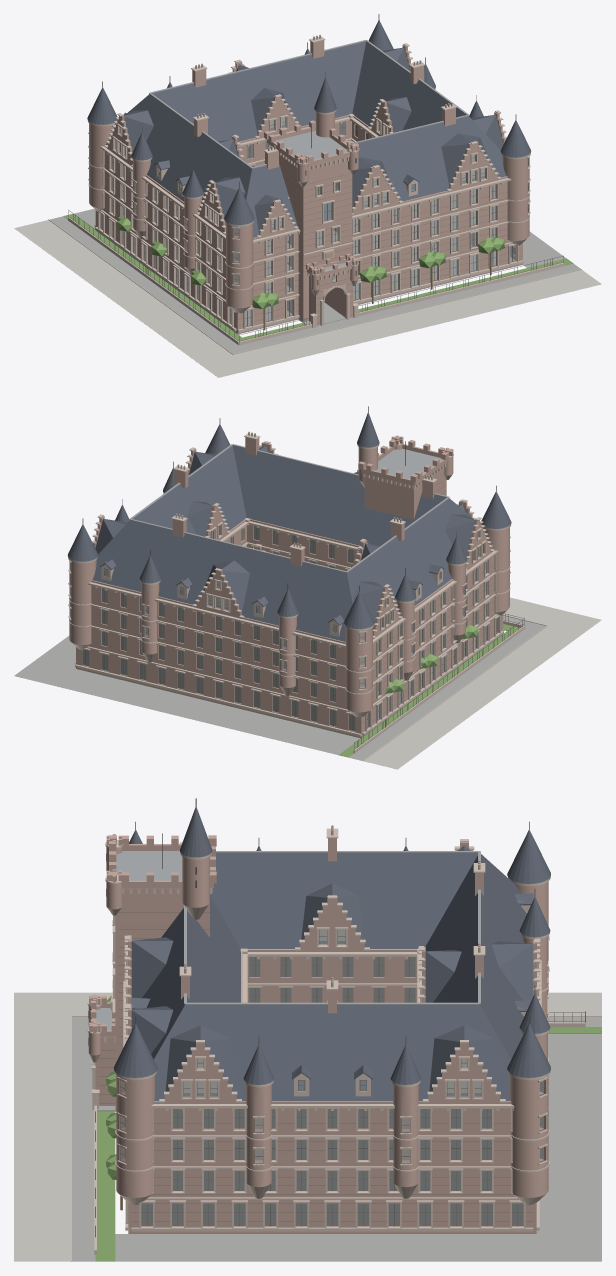
File: clay-baronial-railway-hotel-clay-v006.glb
The picture shows the model from 3 angles, top to bottom: view 1: azimuth 30°, elevation 25°; view 2: azimuth 150°, elevation 25°; view 3: azimuth 270°, elevation 25°; orthographic projection. The views are drawn at different scales.
Visible parts, largest first — view 1: CLAY_WALL, CLAY_ROOF, CLAY_STONE, CLAY_CONCRETE, CLAY_FOUNDATION, CLAY_GLASS, CLAY_PLANTING, CLAY_TRIM, CLAY_LEAD, CLAY_FLOOR, CLAY_JOINT, CLAY_HARDWARE; view 2: CLAY_ROOF, CLAY_WALL, CLAY_STONE, CLAY_FOUNDATION, CLAY_CONCRETE, CLAY_GLASS, CLAY_TRIM, CLAY_LEAD, CLAY_PLANTING, CLAY_HARDWARE; view 3: CLAY_ROOF, CLAY_WALL, CLAY_FOUNDATION, CLAY_STONE, CLAY_CONCRETE, CLAY_GLASS, CLAY_TRIM, CLAY_LEAD, CLAY_PLANTING, CLAY_JOINT, CLAY_INTERIOR.
Part boxes in pixels (bbox=[...]): CLAY_WALL: bbox=[89, 40, 529, 333]; CLAY_ROOF: bbox=[87, 20, 531, 237]; CLAY_STONE: bbox=[48, 36, 581, 354]; CLAY_CONCRETE: bbox=[14, 220, 601, 377]; CLAY_FOUNDATION: bbox=[50, 208, 580, 353]; CLAY_GLASS: bbox=[101, 117, 528, 326]; CLAY_PLANTING: bbox=[63, 214, 573, 341]; CLAY_TRIM: bbox=[100, 117, 528, 326]; CLAY_LEAD: bbox=[149, 40, 469, 270]; CLAY_FLOOR: bbox=[113, 167, 495, 292]; CLAY_JOINT: bbox=[97, 161, 522, 325]; CLAY_HARDWARE: bbox=[68, 14, 563, 341]; CLAY_ROOF: bbox=[67, 412, 511, 641]; CLAY_WALL: bbox=[69, 435, 509, 737]; CLAY_STONE: bbox=[68, 433, 547, 760]; CLAY_FOUNDATION: bbox=[14, 615, 545, 760]; CLAY_CONCRETE: bbox=[363, 597, 601, 769]; CLAY_GLASS: bbox=[70, 525, 497, 731]; CLAY_TRIM: bbox=[70, 525, 498, 731]; CLAY_LEAD: bbox=[129, 444, 449, 572]; CLAY_PLANTING: bbox=[339, 624, 519, 757]; CLAY_HARDWARE: bbox=[82, 406, 524, 749]; CLAY_ROOF: bbox=[114, 806, 550, 1100]; CLAY_WALL: bbox=[88, 834, 548, 1232]; CLAY_FOUNDATION: bbox=[72, 1017, 601, 1261]; CLAY_STONE: bbox=[71, 828, 601, 1261]; CLAY_CONCRETE: bbox=[14, 992, 601, 1261]; CLAY_GLASS: bbox=[120, 930, 544, 1225]; CLAY_TRIM: bbox=[119, 930, 545, 1226]; CLAY_LEAD: bbox=[95, 851, 480, 1030]; CLAY_PLANTING: bbox=[95, 996, 601, 1261]; CLAY_JOINT: bbox=[99, 912, 532, 1221]; CLAY_INTERIOR: bbox=[183, 930, 481, 1092].
Size of the model in its own units: 78 by 42.4 by 72.
